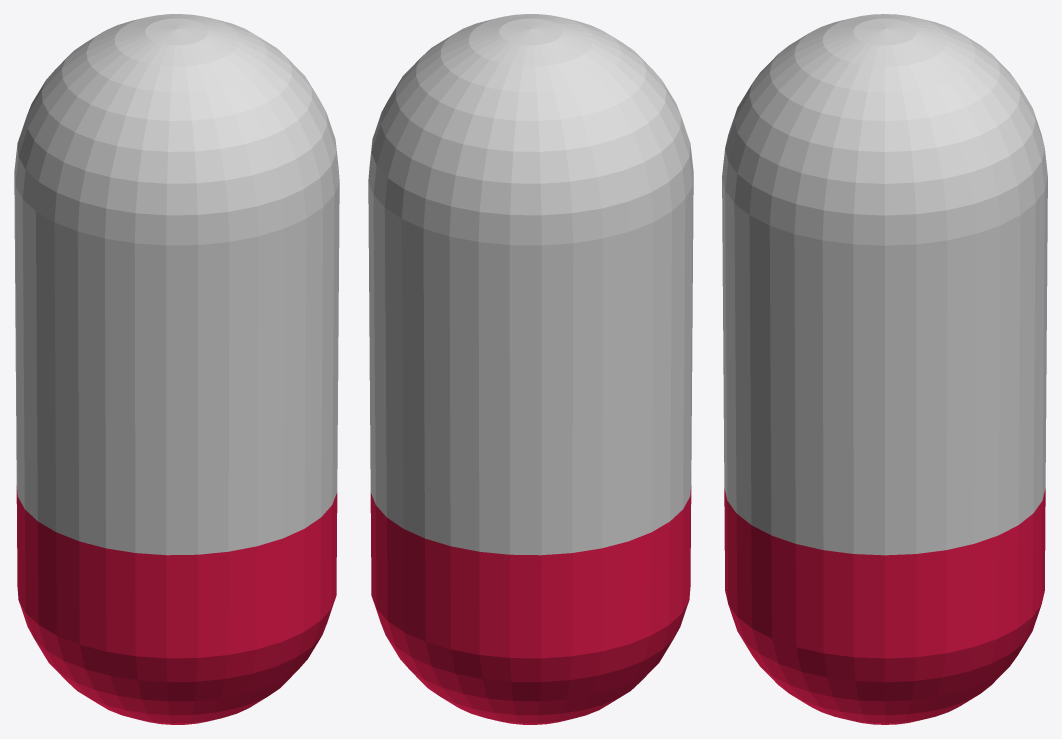
The model's file is pill101blend.glb.
3 views of the same model, side by side, from view 1: azimuth 30°, elevation 25°; view 2: azimuth 150°, elevation 25°; view 3: azimuth 270°, elevation 25° (orthographic).
Parts seen in each view (by area): view 1: Sphere; view 2: Sphere; view 3: Sphere.
Part boxes in pixels (x1,y1,x2,y2): Sphere: (14,14,339,724); Sphere: (368,14,693,724); Sphere: (722,14,1047,724).
Bounding box in the file's own units: 2 × 4.61 × 2.
